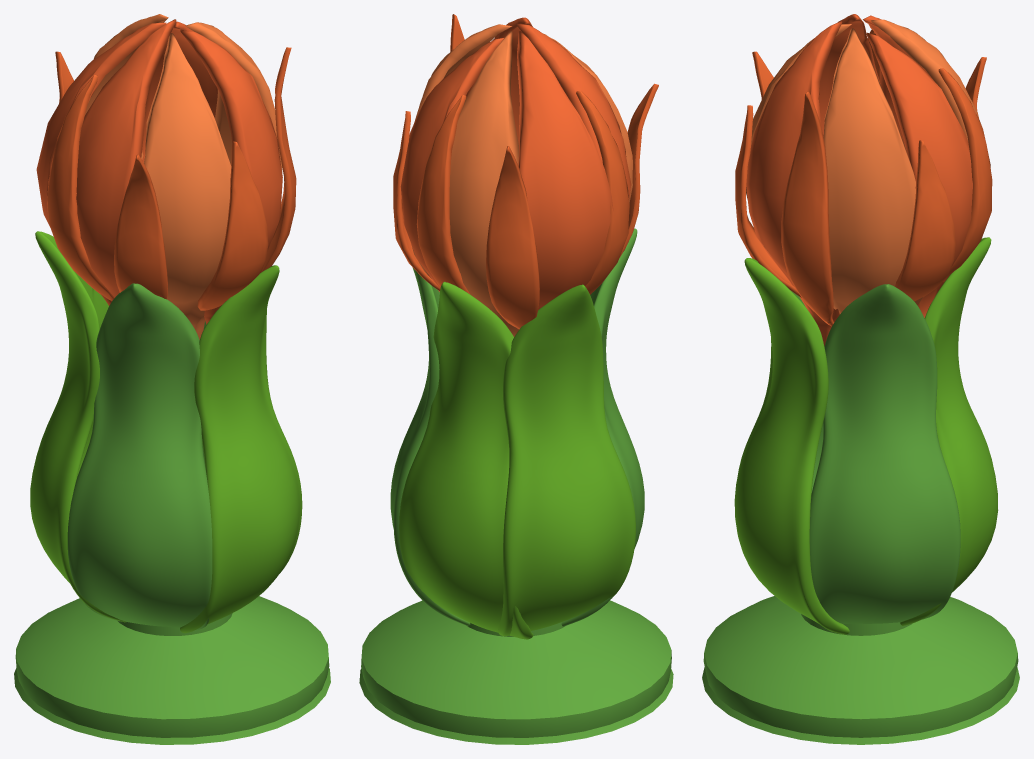
The model's file is fulgens.glb.
3 renders of one model, left to right at view 1: azimuth 30°, elevation 25°; view 2: azimuth 150°, elevation 25°; view 3: azimuth 270°, elevation 25°, orthographic.
Parts seen in each view (by area): view 1: Circle.025, Circle.026, Circle.024, Circle.033, Circle.023, Circle.032, Circle.031, Circle.036, Circle.035, Circle.037, Circle.029, Circle.034 (+3 smaller); view 2: Circle.023, Circle.026, Circle.022, Circle.029, Circle.028, Circle.038, Circle.027, Circle.039, Circle.021, Circle.025, Circle.032, Circle.037 (+5 smaller); view 3: Circle.021, Circle.026, Circle.024, Circle.030, Circle.022, Circle.031, Circle.027, Circle.034, Circle.040, Circle.039, Circle.036, Circle.028 (+3 smaller).
Boxes of the visible parts, bbox=[...] form: Circle.025: bbox=[67, 283, 212, 629]; Circle.026: bbox=[14, 596, 330, 744]; Circle.024: bbox=[180, 265, 302, 633]; Circle.033: bbox=[143, 33, 231, 328]; Circle.023: bbox=[30, 231, 126, 622]; Circle.032: bbox=[76, 19, 176, 297]; Circle.031: bbox=[180, 30, 282, 324]; Circle.036: bbox=[197, 141, 268, 310]; Circle.035: bbox=[114, 154, 167, 299]; Circle.037: bbox=[47, 75, 114, 300]; Circle.029: bbox=[36, 22, 166, 305]; Circle.034: bbox=[261, 47, 296, 272]; Circle.023: bbox=[498, 284, 635, 636]; Circle.026: bbox=[359, 600, 673, 744]; Circle.022: bbox=[399, 281, 533, 639]; Circle.029: bbox=[517, 31, 613, 309]; Circle.028: bbox=[449, 31, 518, 336]; Circle.038: bbox=[486, 146, 539, 329]; Circle.027: bbox=[400, 37, 504, 288]; Circle.039: bbox=[416, 95, 469, 293]; Circle.021: bbox=[390, 267, 470, 626]; Circle.025: bbox=[561, 228, 644, 626]; Circle.032: bbox=[516, 23, 631, 201]; Circle.037: bbox=[576, 90, 629, 294]; Circle.021: bbox=[809, 284, 960, 624]; Circle.026: bbox=[702, 596, 1019, 744]; Circle.024: bbox=[734, 258, 849, 634]; Circle.030: bbox=[823, 28, 922, 313]; Circle.022: bbox=[900, 237, 998, 625]; Circle.031: bbox=[746, 21, 842, 345]; Circle.027: bbox=[866, 32, 972, 317]; Circle.034: bbox=[781, 91, 834, 326]; Circle.040: bbox=[895, 140, 955, 301]; Circle.039: bbox=[938, 68, 992, 282]; Circle.036: bbox=[735, 105, 801, 297]; Circle.028: bbox=[871, 19, 979, 141].
Size of the model in its own units: 2.82 by 6.46 by 2.82.
